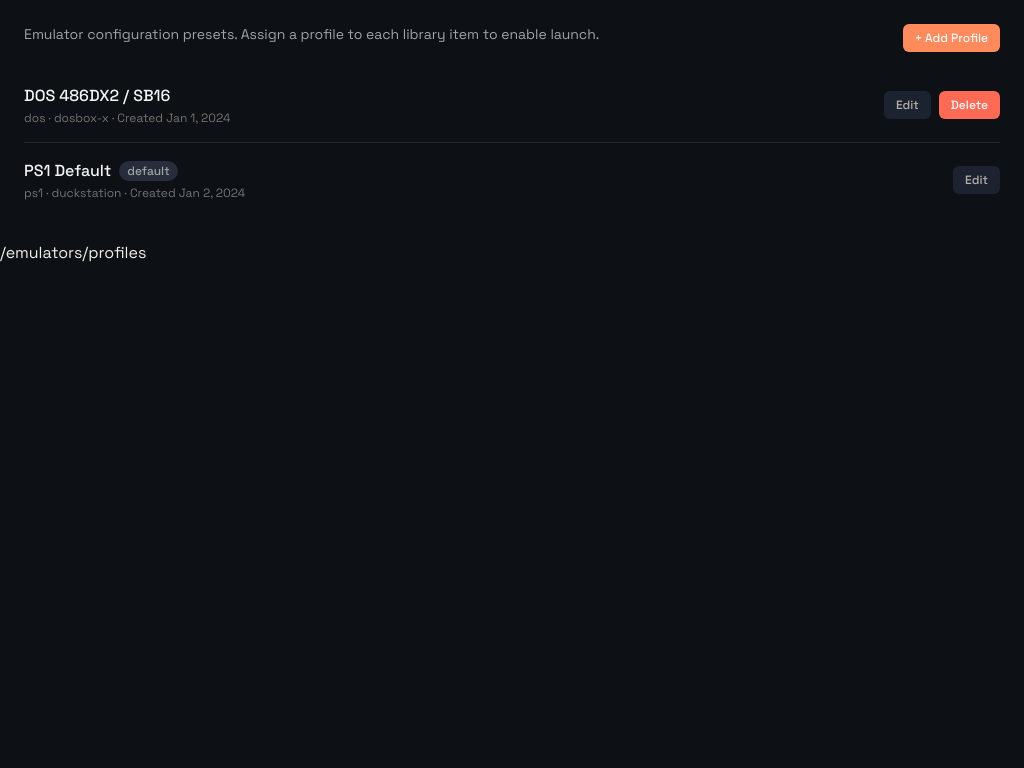
Profiles (Emulators sibling tab), CRUD via modal › opens the ProfileForm modal in create mode without navigating anywhere
Expected: the text "DOS 486DX2 / SB16" is shown, [24,84,170,108]
Click the button "+ Add Profile": (951, 38) [903,24,1000,52]
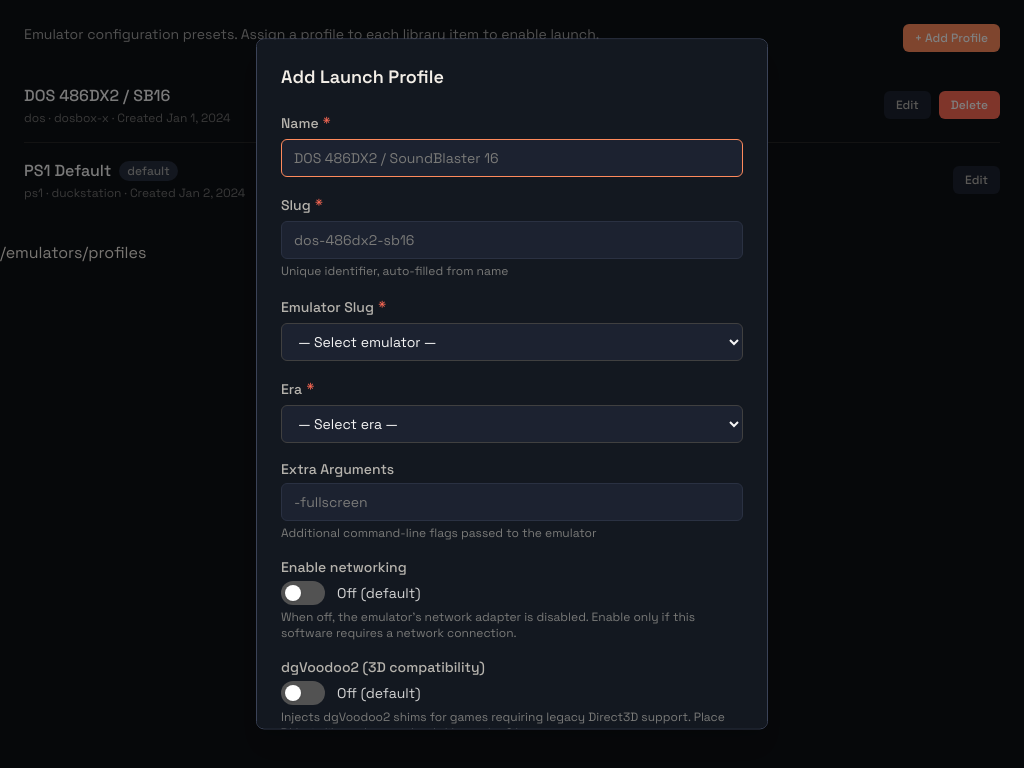
Expected: the text with test id "location-probe" reads "/emulators/profiles", [0,242,146,263]
Now the dialog is shown, box [256,38,768,730]
Now the heading "Add Launch Profile" is shown, box [281,65,444,88]
